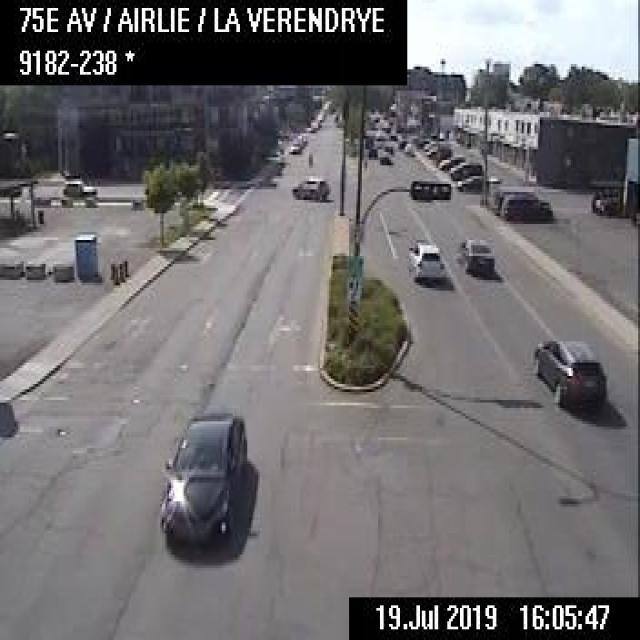construction: (111, 261, 118, 282), (121, 256, 128, 277), (116, 260, 122, 280)
vehicle: (158, 411, 246, 560), (529, 333, 607, 408), (498, 189, 552, 222), (459, 232, 495, 277), (406, 240, 446, 280), (291, 175, 330, 200), (59, 175, 98, 198), (449, 157, 482, 177), (455, 173, 488, 192), (438, 155, 464, 169), (376, 150, 391, 166), (286, 142, 302, 152)
